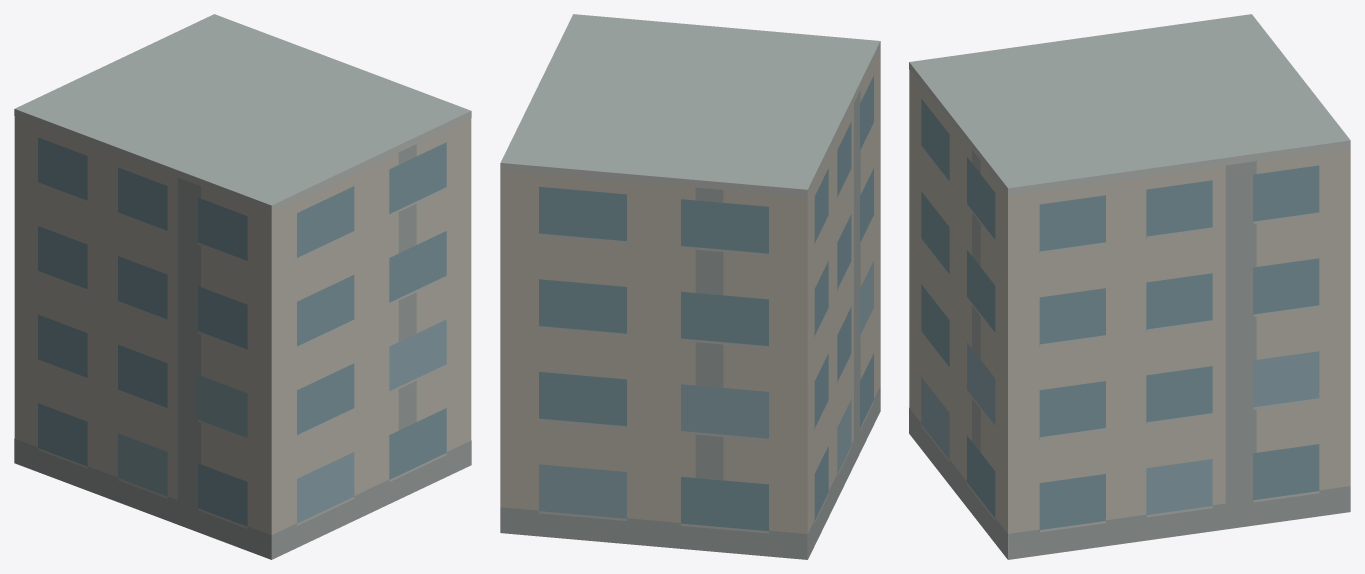
Rendered from residential-f7f2b145-f2fb-4f41-a76b-e8379f71949c.glb.
The picture shows the model from 3 angles, left to right: view 1: azimuth 30°, elevation 25°; view 2: azimuth 150°, elevation 25°; view 3: azimuth 270°, elevation 25°; orthographic projection. The views are drawn at different scales.
Parts seen in each view (by area): view 1: residential-f7f2b145-f2fb-4f41-a76b-e8379f71949c.tmp; view 2: residential-f7f2b145-f2fb-4f41-a76b-e8379f71949c.tmp; view 3: residential-f7f2b145-f2fb-4f41-a76b-e8379f71949c.tmp.
Boxes of the visible parts, <box> form: residential-f7f2b145-f2fb-4f41-a76b-e8379f71949c.tmp: <box>14,14,471,559</box>; residential-f7f2b145-f2fb-4f41-a76b-e8379f71949c.tmp: <box>500,14,880,559</box>; residential-f7f2b145-f2fb-4f41-a76b-e8379f71949c.tmp: <box>909,14,1350,559</box>.
Bounding box in the file's own units: 12.09 × 12 × 12.94.
